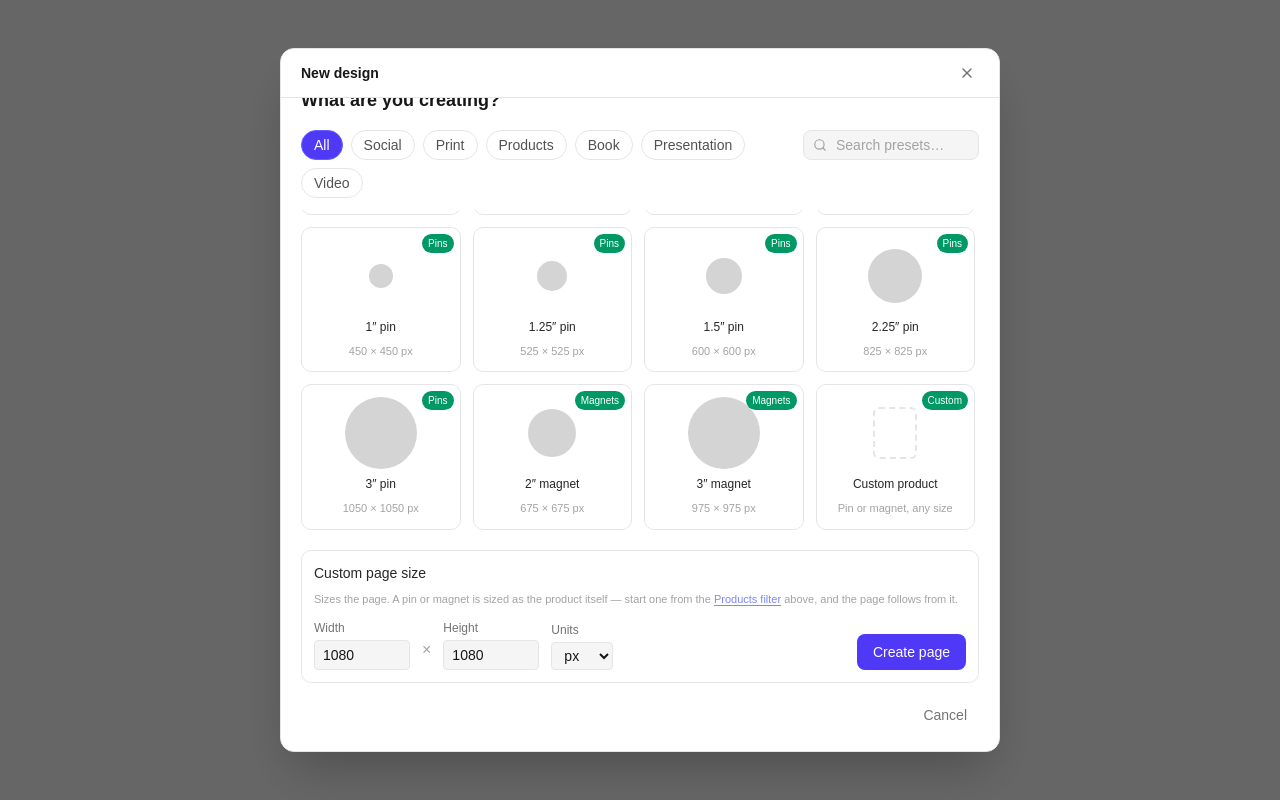
Scenario: NewDesignModal — print products › drops product setup when the filter moves to a grid without it
(page scrolled)
Click the text "2″ magnet" at [552, 484], box [525,477,579,492]
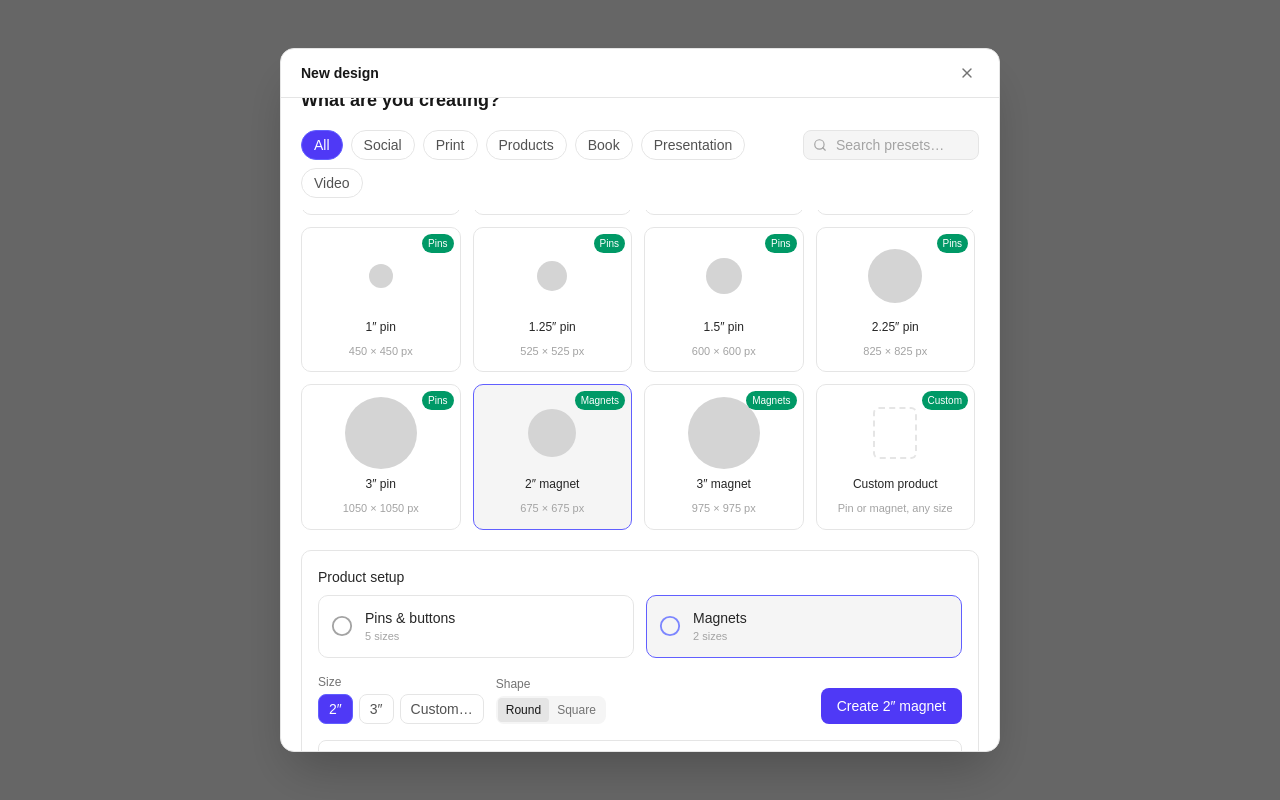
Now the text "Product setup" is shown, box [318,569,404,585]
Click the button "Social" at [383, 145], box [351,130,415,160]
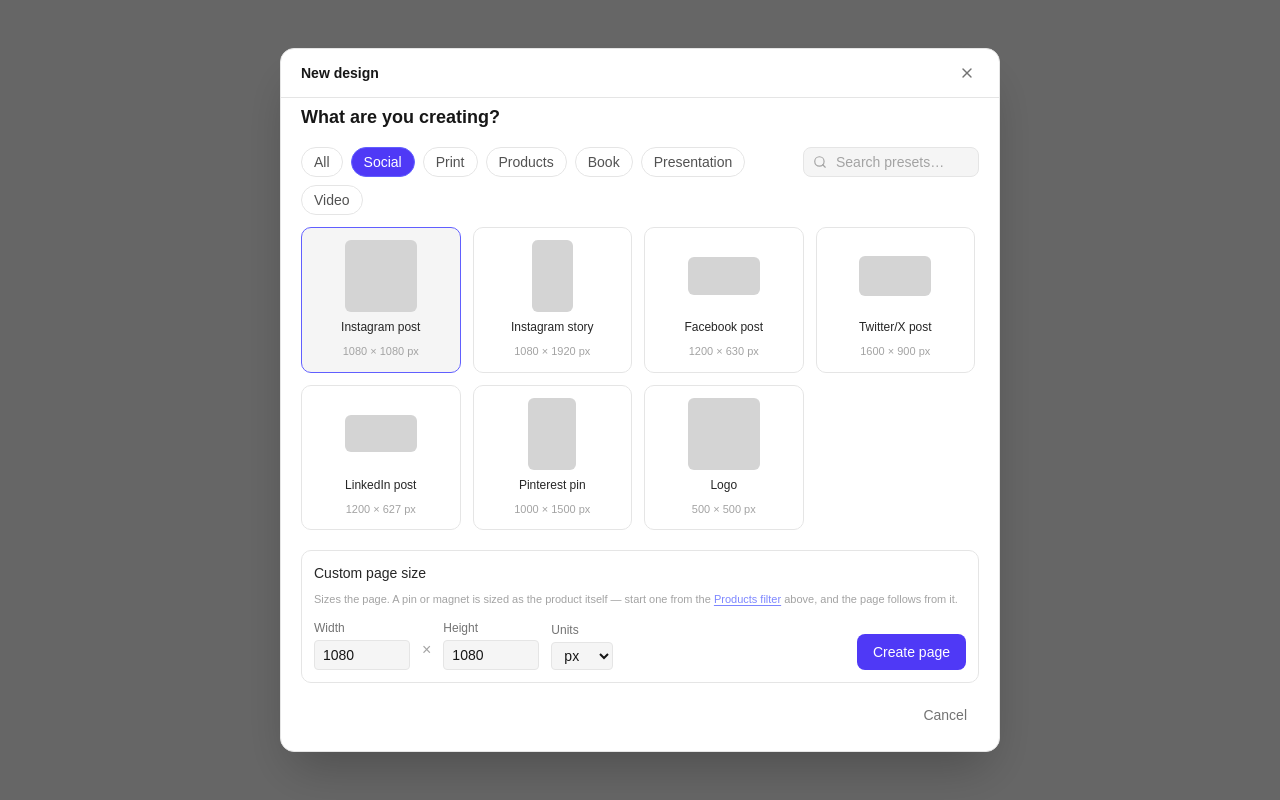
Now the text "Product setup" is gone
Now the text "Custom page size" is shown, box [314,565,426,581]
